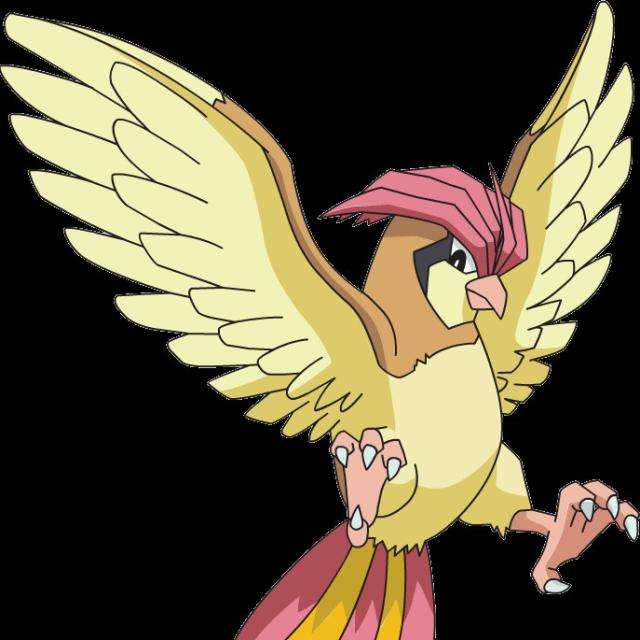Pidgeot: (183, 23, 628, 626)
